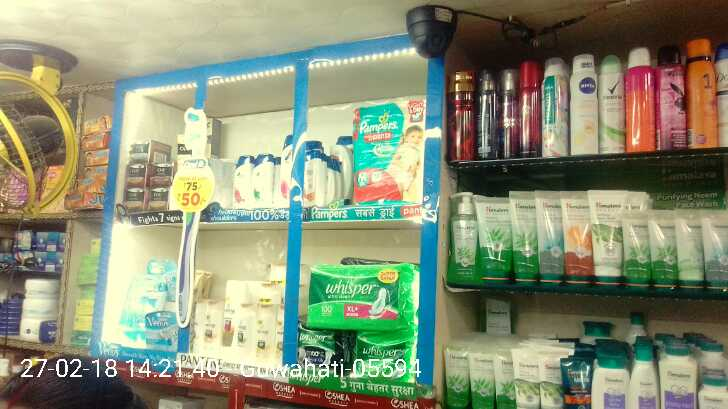venus: (133, 258, 177, 309), (145, 310, 179, 349)
